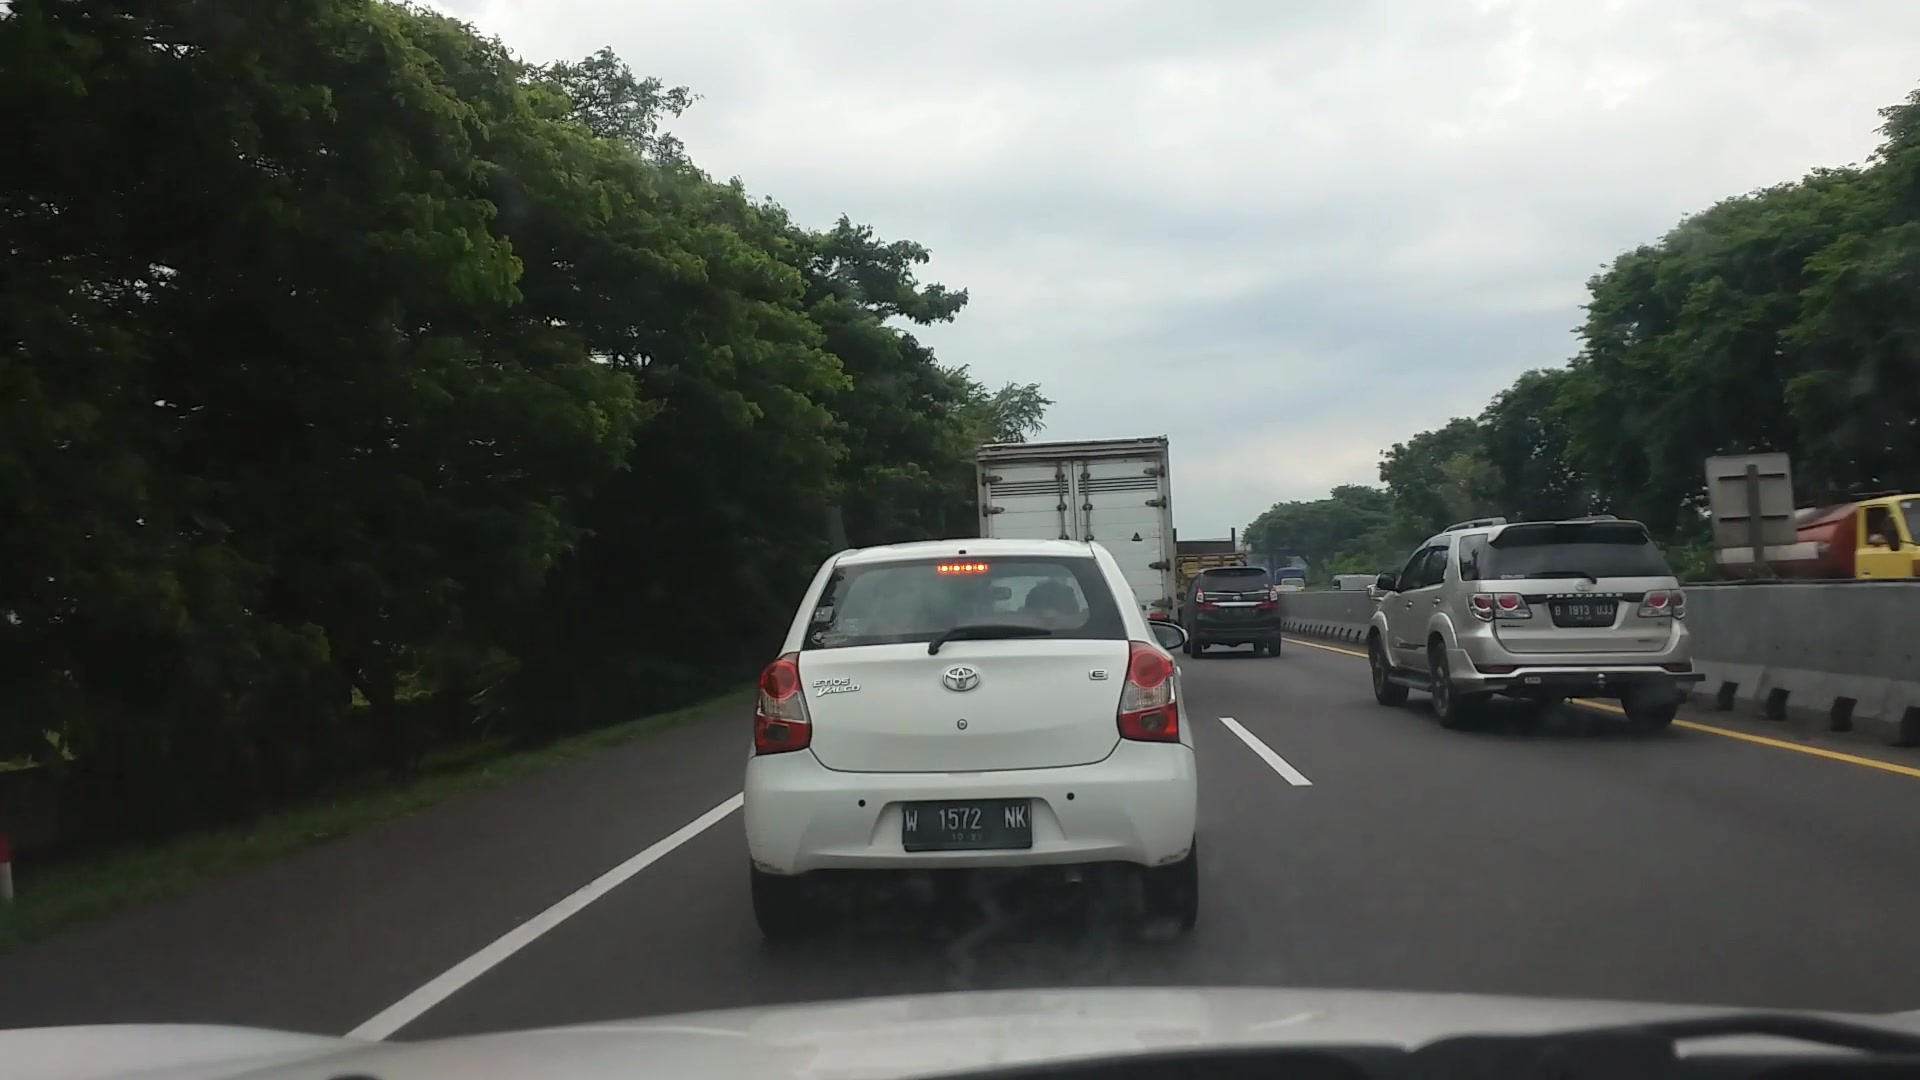plate_positive: (901, 796, 1033, 852), (1553, 603, 1614, 622)
